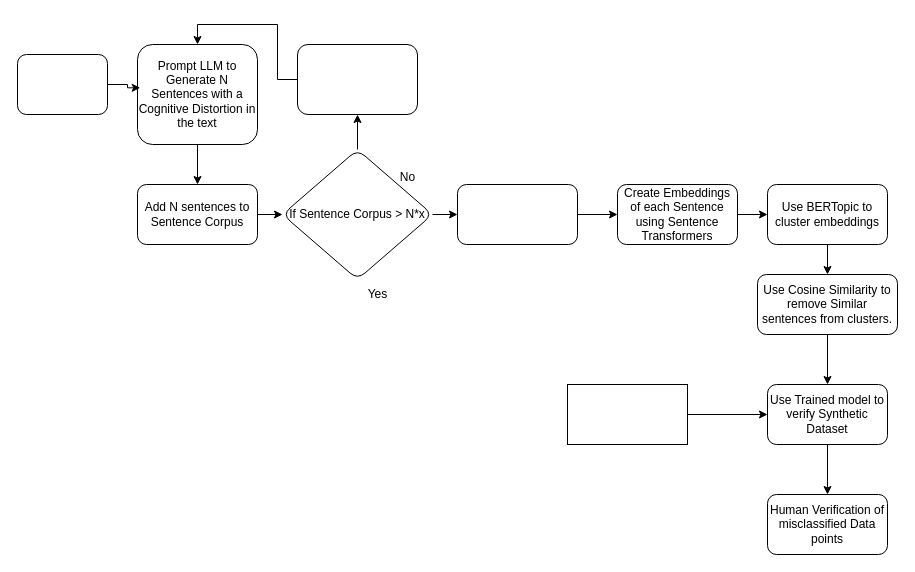
This 915x572 diagram has some shape labels left out. Each missing label, with the box of its shape:
Add Sentences to input Prompt to prevent repetition: (296, 44, 418, 114)
Clean Sentence Corpus: (456, 184, 578, 244)
Start: (16, 54, 108, 114)
Train Supervised model on Expert Dataset of annotated CDS: (566, 384, 688, 444)
